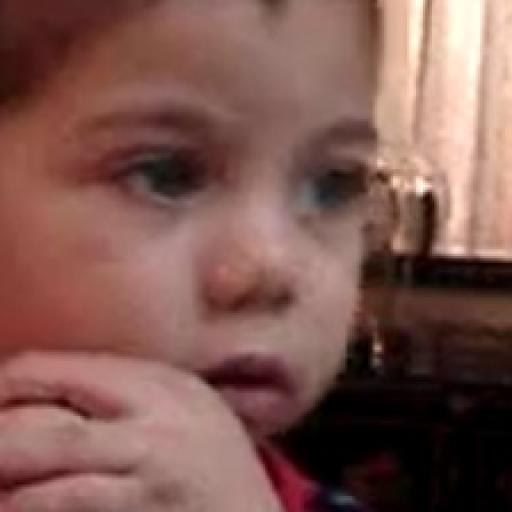Autism: (0, 13, 429, 512)
